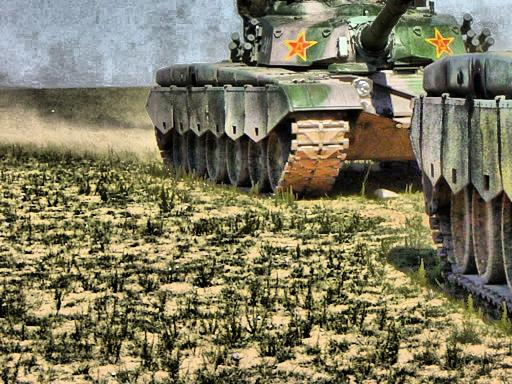tanks: (147, 1, 467, 197), (411, 49, 512, 303)
